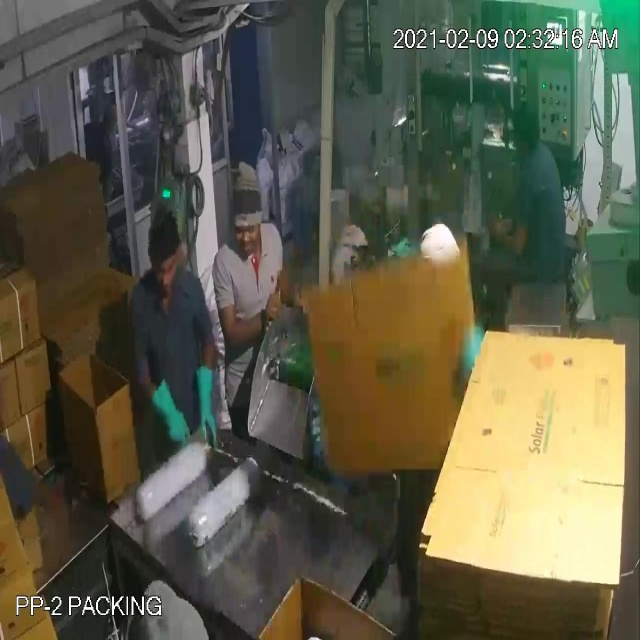Guantes: (142, 362, 188, 458), (189, 346, 220, 462)
Sin_guantes: (210, 286, 291, 353), (486, 204, 533, 265)
